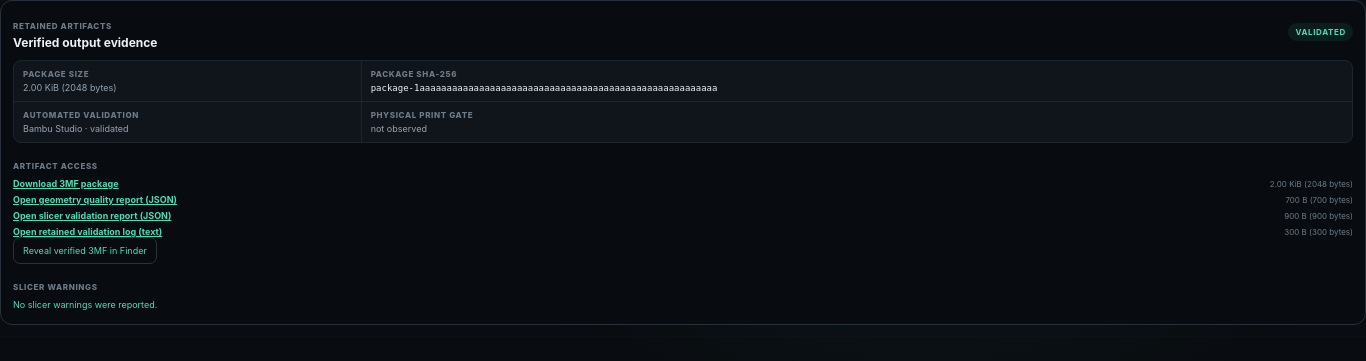
Test: OutputEvidence › reveals the verified package through the project-scoped API when advertised
The width and height of the screenshot is (1366, 361).
Click the button "Reveal verified 3MF in Finder" at (85, 250), box [13,237,157,264]
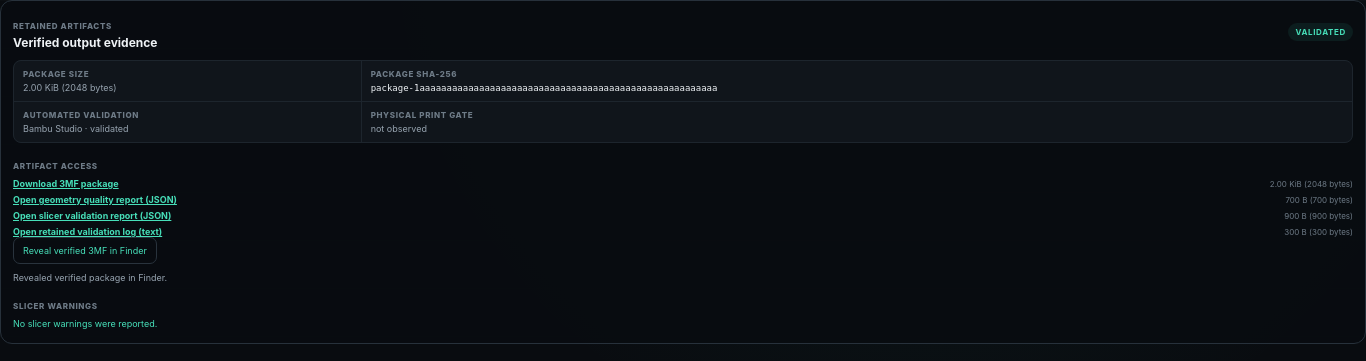
Expected: the text "Revealed verified package in Finder." is shown, [13,272,167,283]
